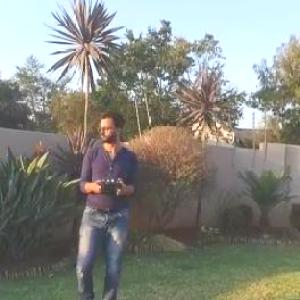follow: (67, 104, 135, 299)
